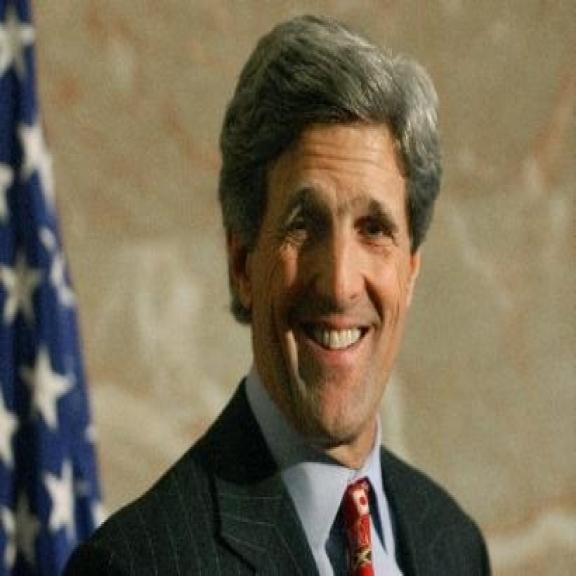face: (218, 88, 429, 450)
